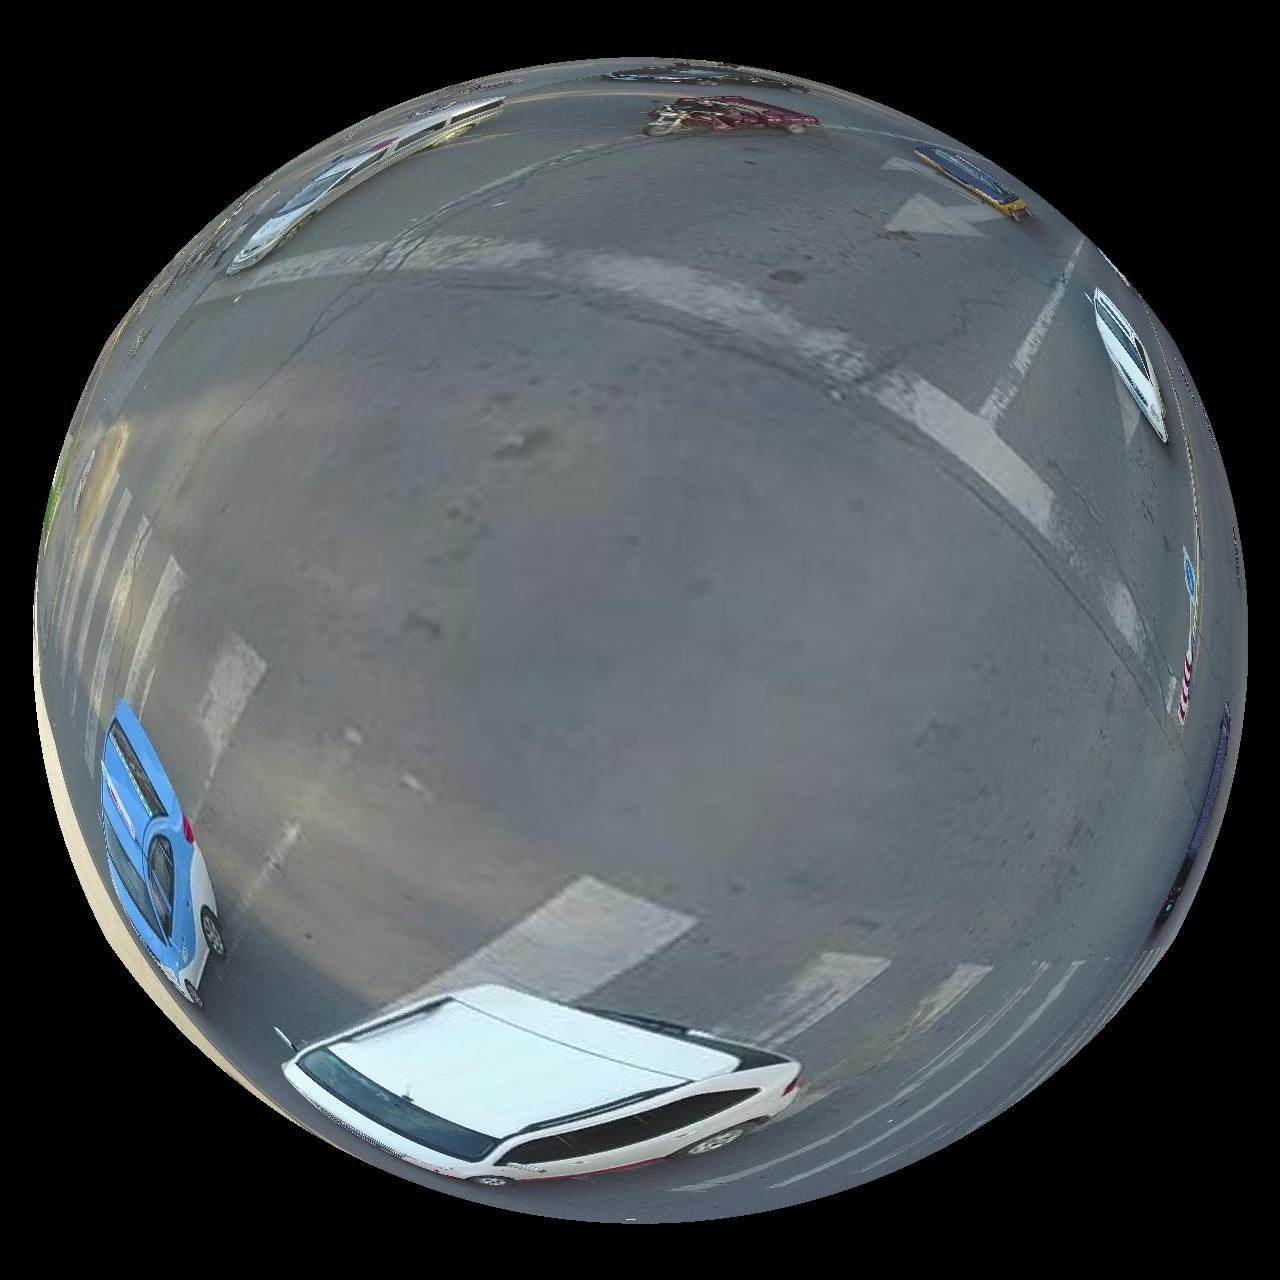cars: (284, 986, 802, 1190), (226, 95, 504, 273), (96, 701, 226, 1008), (1158, 702, 1234, 930), (1089, 287, 1170, 442), (915, 143, 1030, 218)
